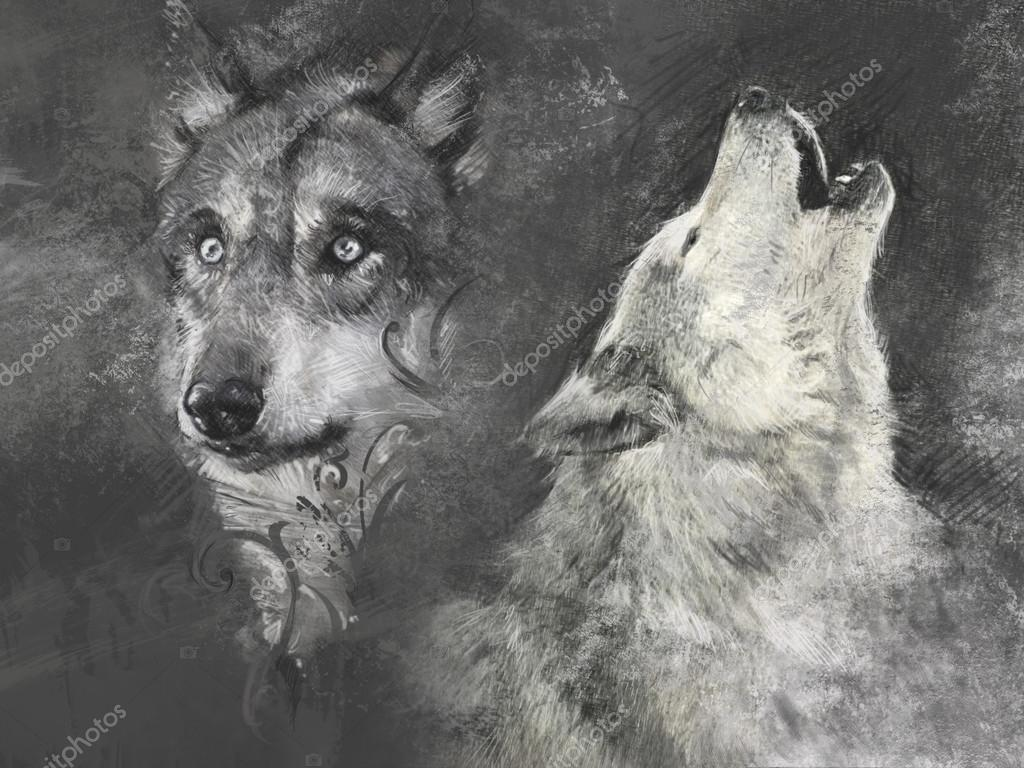Lobo: (120, 15, 492, 564), (563, 55, 911, 575)
